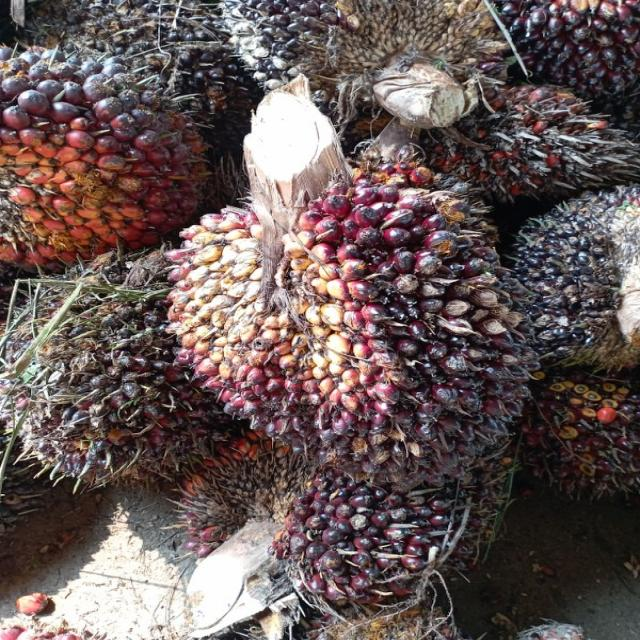fraksi 00: (0, 266, 218, 495)
fraksi 1: (165, 128, 541, 494), (0, 40, 193, 263), (268, 462, 486, 613)
